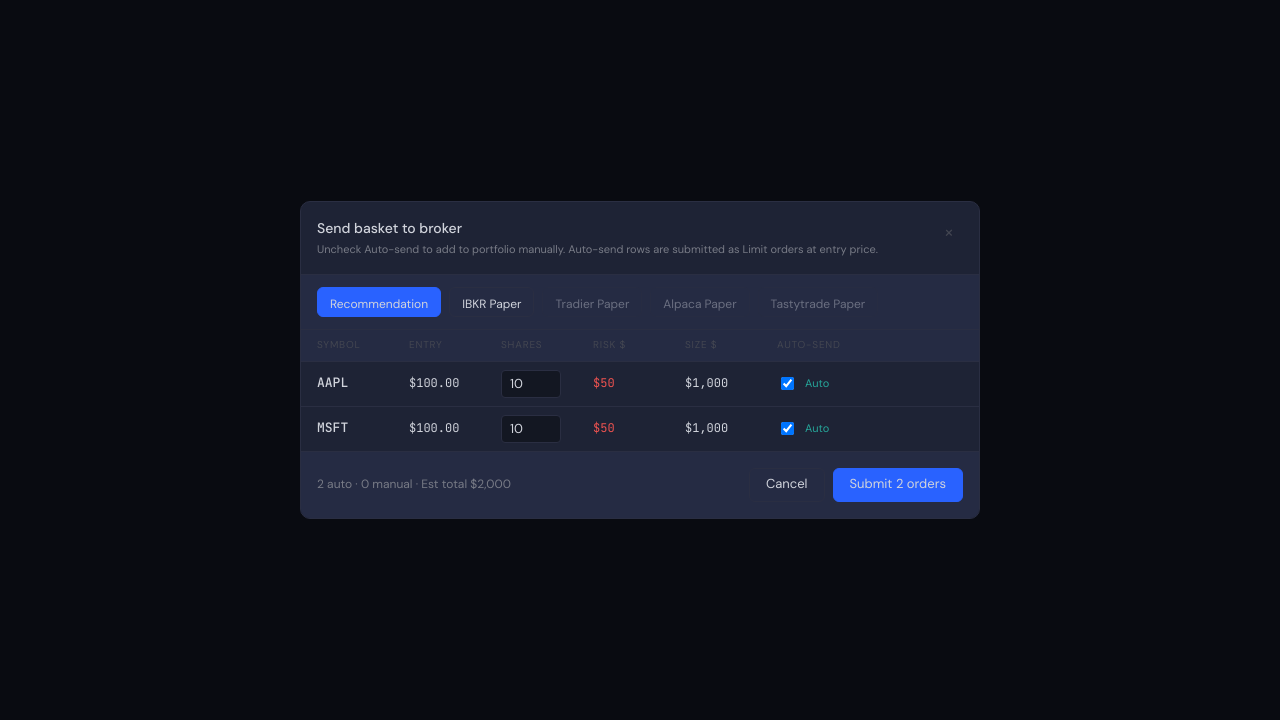
Scenario: StockSendDialog — partial basket failure retry › an IBKR confirmation question (502) on one auto-send row shows its error and keeps no position for it
Click the button "IBKR Paper". click: (492, 302)
box: top-left (449, 287), bottom-right (534, 317)
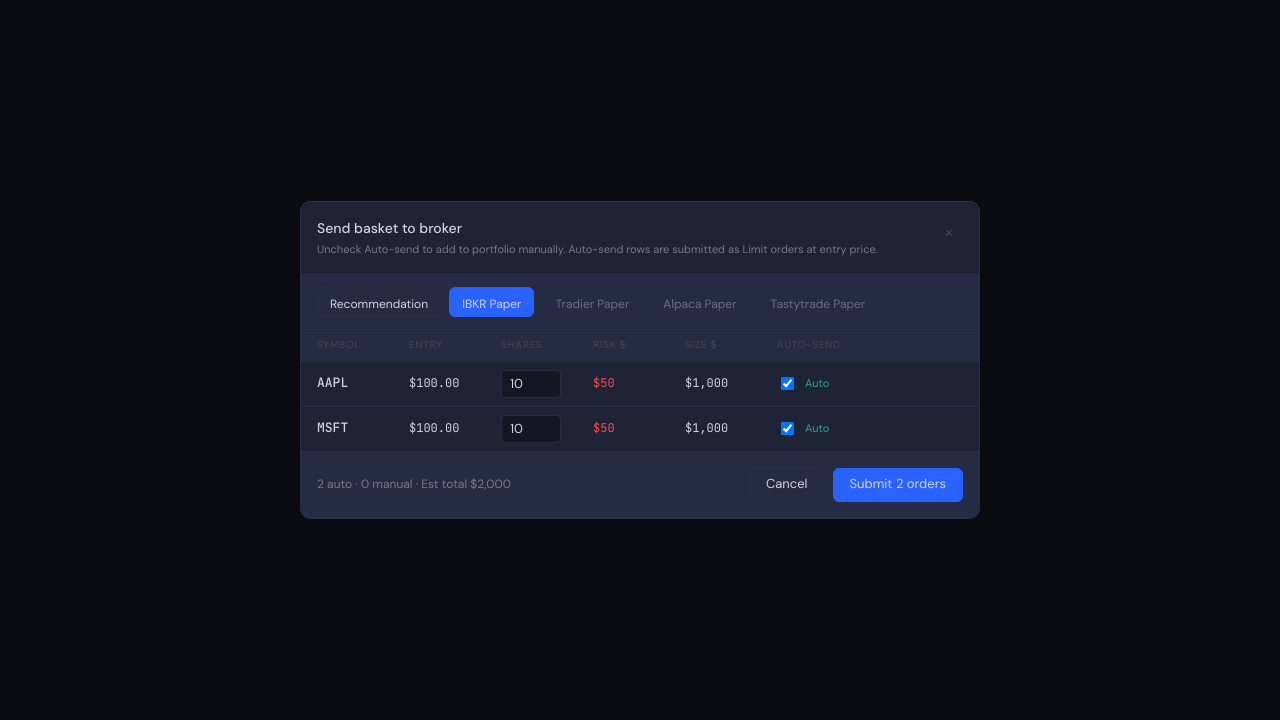
Click the button "Submit 2 orders". click: (898, 485)
box: top-left (832, 468), bottom-right (963, 502)
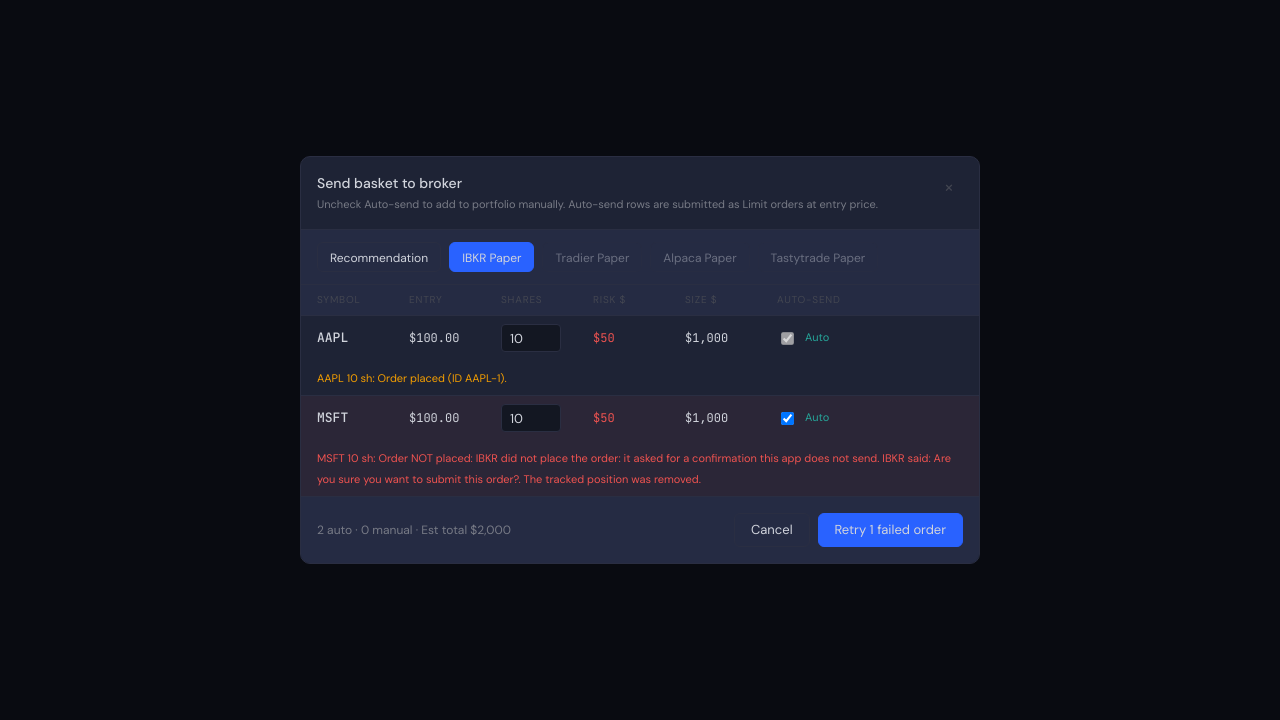
Expected: the button "Retry 1 failed order" is enabled, top-left (818, 513), bottom-right (963, 547)
Expected: the text "IBKR said: Are you sure" is shown, top-left (317, 451), bottom-right (951, 486)
